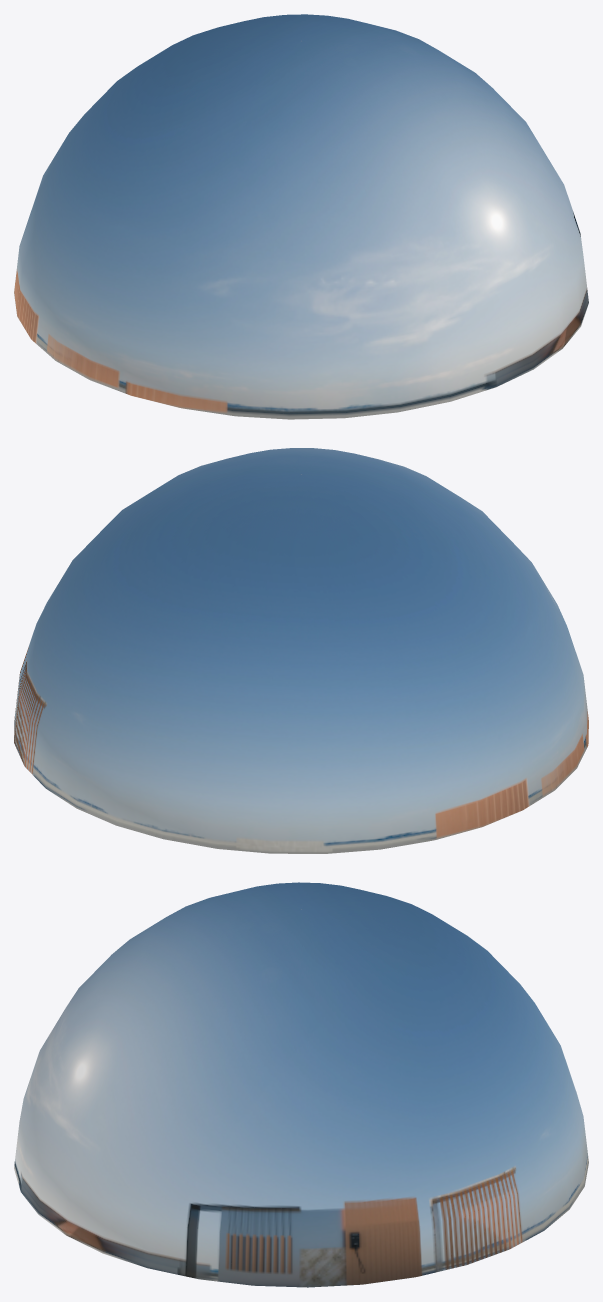
File: skydome.glb
3 renders of one model, top to bottom at view 1: azimuth 30°, elevation 25°; view 2: azimuth 150°, elevation 25°; view 3: azimuth 270°, elevation 25°, orthographic.
Parts seen in each view (by area): view 1: Object_4; view 2: Object_4; view 3: Object_4.
Boxes of the visible parts, x1,y1,x2,y2 form: Object_4: (14, 14, 588, 419); Object_4: (14, 448, 588, 853); Object_4: (14, 882, 588, 1287).
Size of the model in its own units: 49.99 by 25 by 49.99.
Materials: 1 (1 with a texture image).
